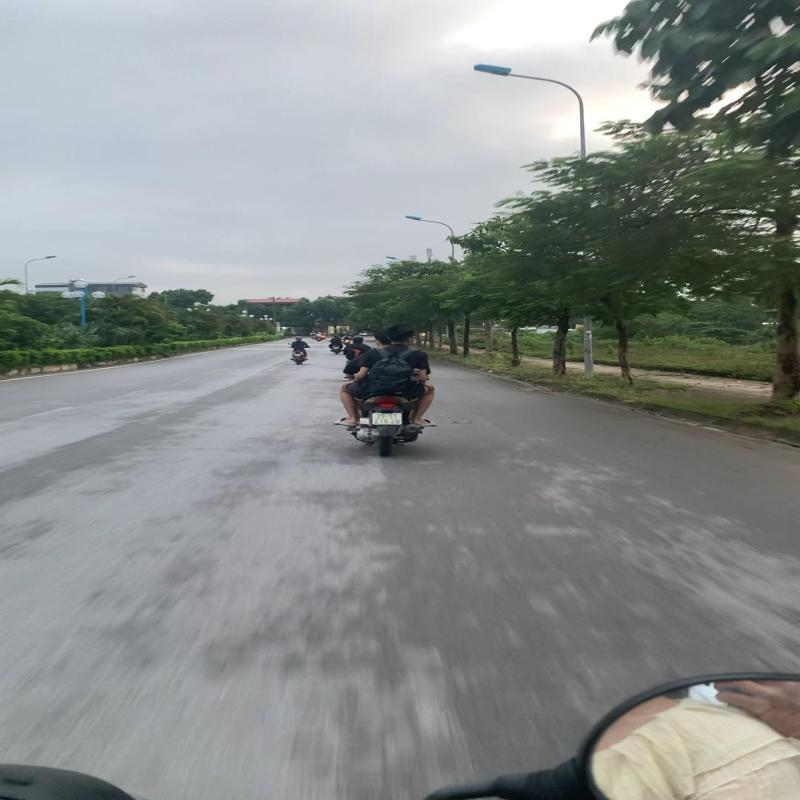licenseplate: (372, 412, 404, 427)
motorcyclist: (331, 323, 441, 461)
nohelmet: (385, 324, 417, 344), (372, 330, 392, 347)
